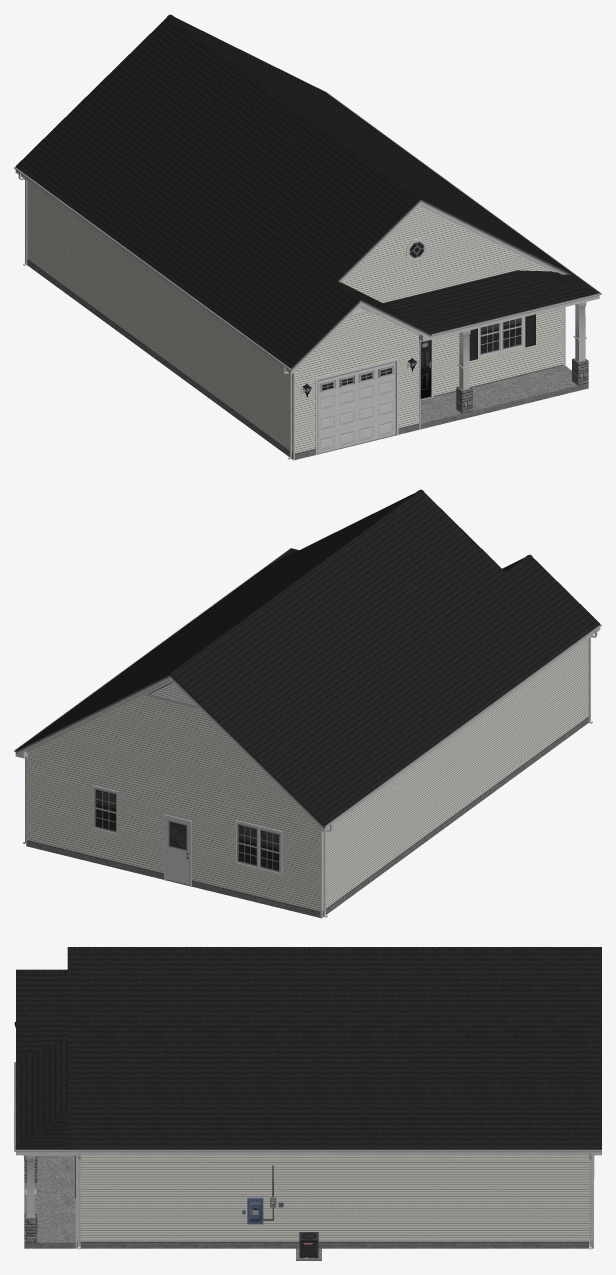
The model's file is house4_mirror1.fbx.
The picture shows the model from 3 angles, top to bottom: view 1: azimuth 30°, elevation 25°; view 2: azimuth 150°, elevation 25°; view 3: azimuth 270°, elevation 25°; orthographic projection. The views are drawn at different scales.
Parts seen in each view (by area): view 1: house4_mirror1_LOD0; view 2: house4_mirror1_LOD0; view 3: house4_mirror1_LOD0.
Part boxes in pixels (box(x1,y1,x2,y2)): house4_mirror1_LOD0: box(14, 14, 601, 460); house4_mirror1_LOD0: box(14, 489, 601, 918); house4_mirror1_LOD0: box(14, 947, 601, 1260).
Size of what is drawn, in the model's own units: 3.11 by 1.92 by 4.55.
